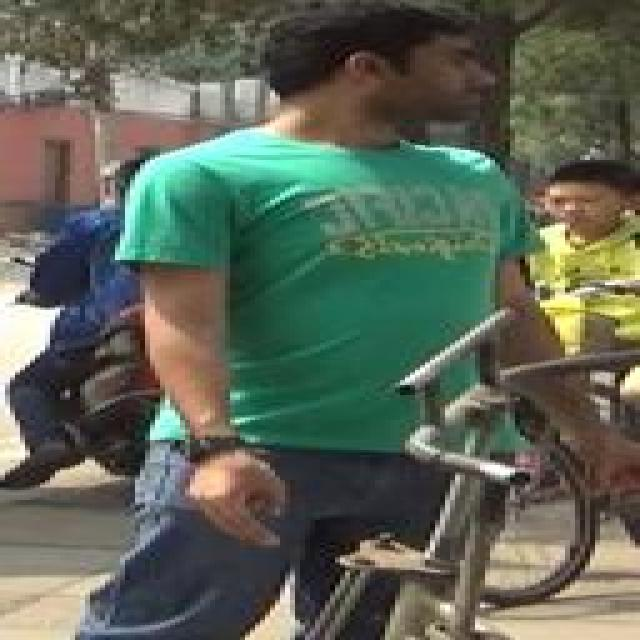adult: (87, 0, 539, 640)
child: (496, 164, 640, 409)
